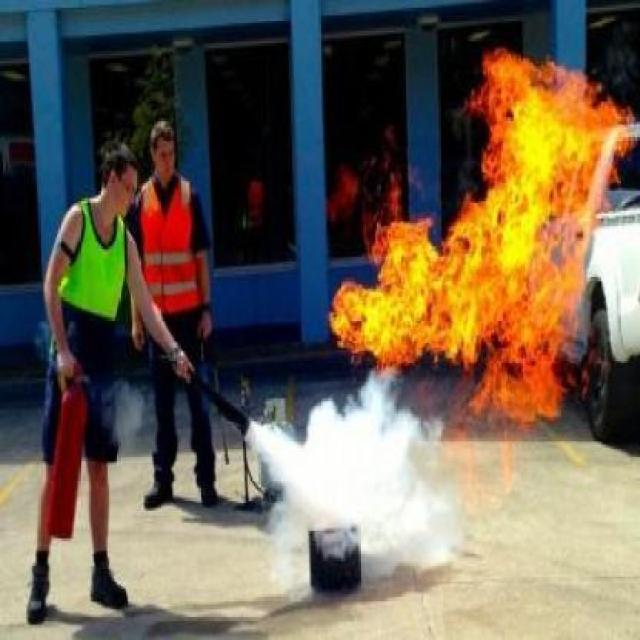Fire: (327, 39, 629, 409)
Smoke: (260, 398, 459, 548)
